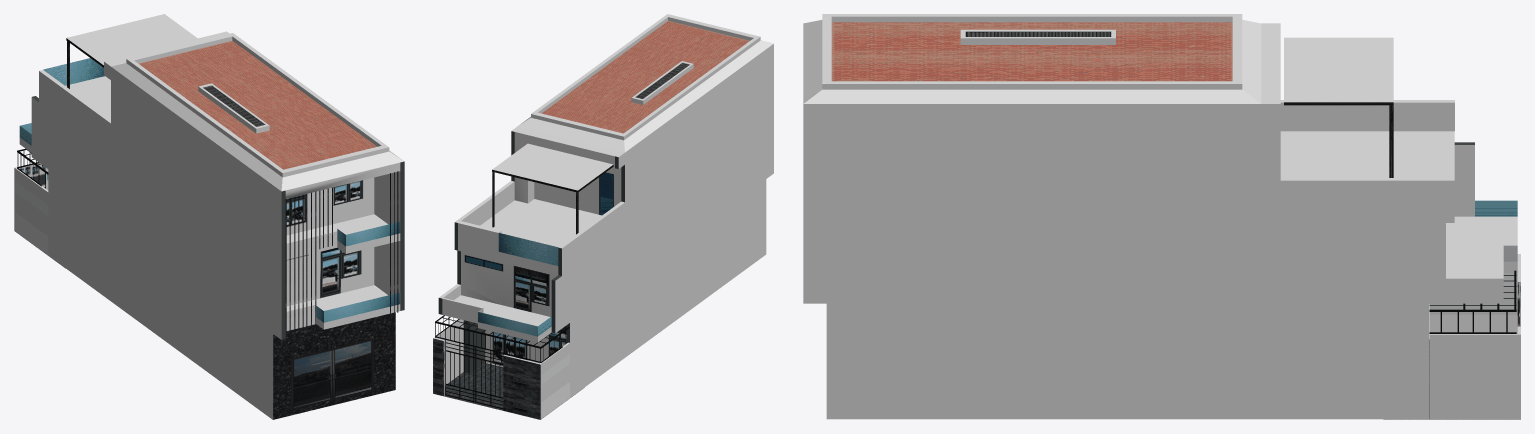
3 renders of one model, left to right at view 1: azimuth 30°, elevation 25°; view 2: azimuth 150°, elevation 25°; view 3: azimuth 270°, elevation 25°, orthographic. The views are drawn at different scales.
Parts seen in each view (by area): view 1: 5bef92b473eb0522f8df89fa; view 2: 5bef92b473eb0522f8df89fa; view 3: 5bef92b473eb0522f8df89fa.
Boxes of the visible parts, <box> form: 5bef92b473eb0522f8df89fa: <box>14,14,404,419</box>; 5bef92b473eb0522f8df89fa: <box>433,14,773,419</box>; 5bef92b473eb0522f8df89fa: <box>803,14,1520,419</box>.
Size of the model in its own units: 6.02 by 11.56 by 22.68.
1 material, 1 textured.
